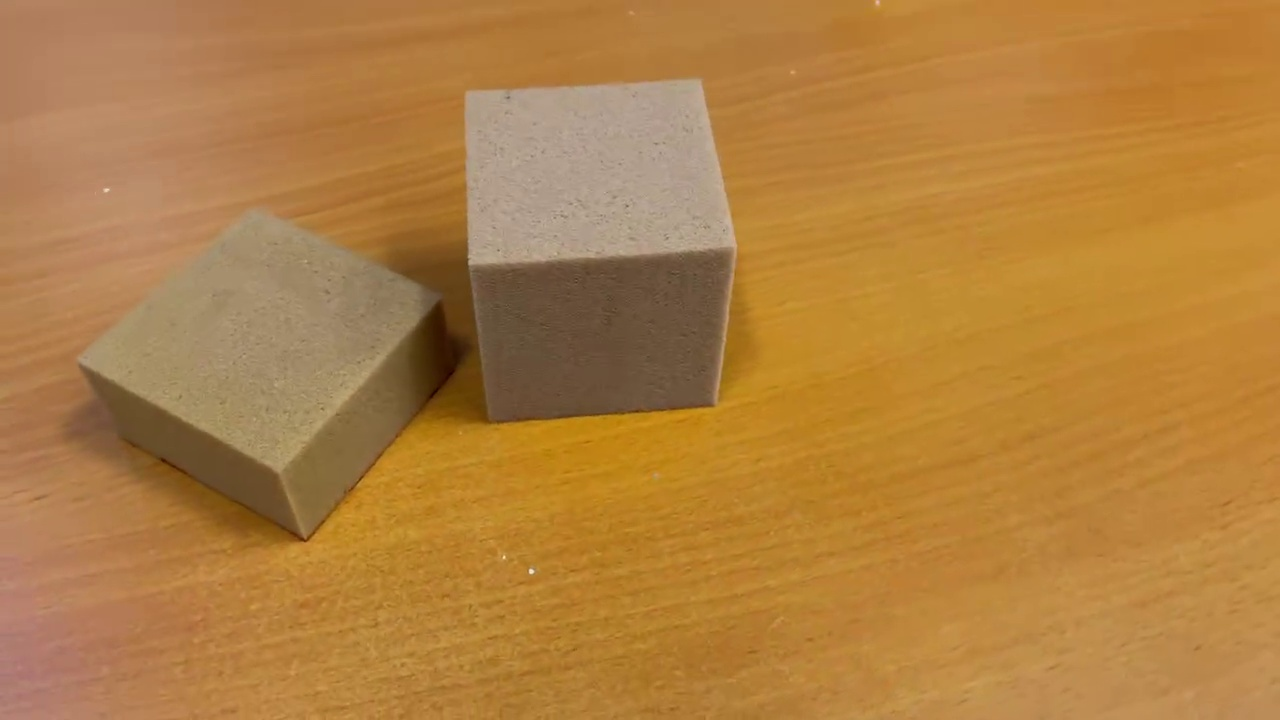Cube: (461, 74, 740, 429)
Cube_short: (67, 200, 461, 542)
